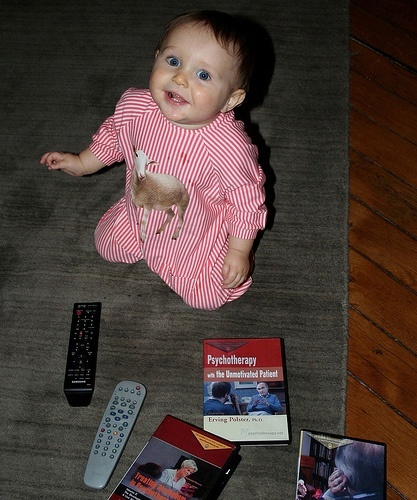head: (144, 7, 255, 131), (209, 379, 232, 403), (176, 459, 200, 480), (254, 381, 271, 400)
person: (34, 19, 279, 308), (163, 453, 201, 490), (243, 381, 284, 414), (204, 381, 243, 414)
